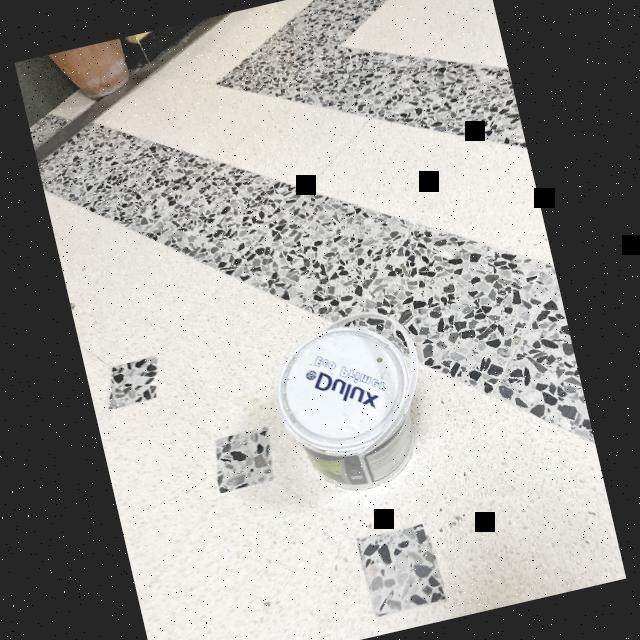paint_bucket: (256, 298, 446, 508)
